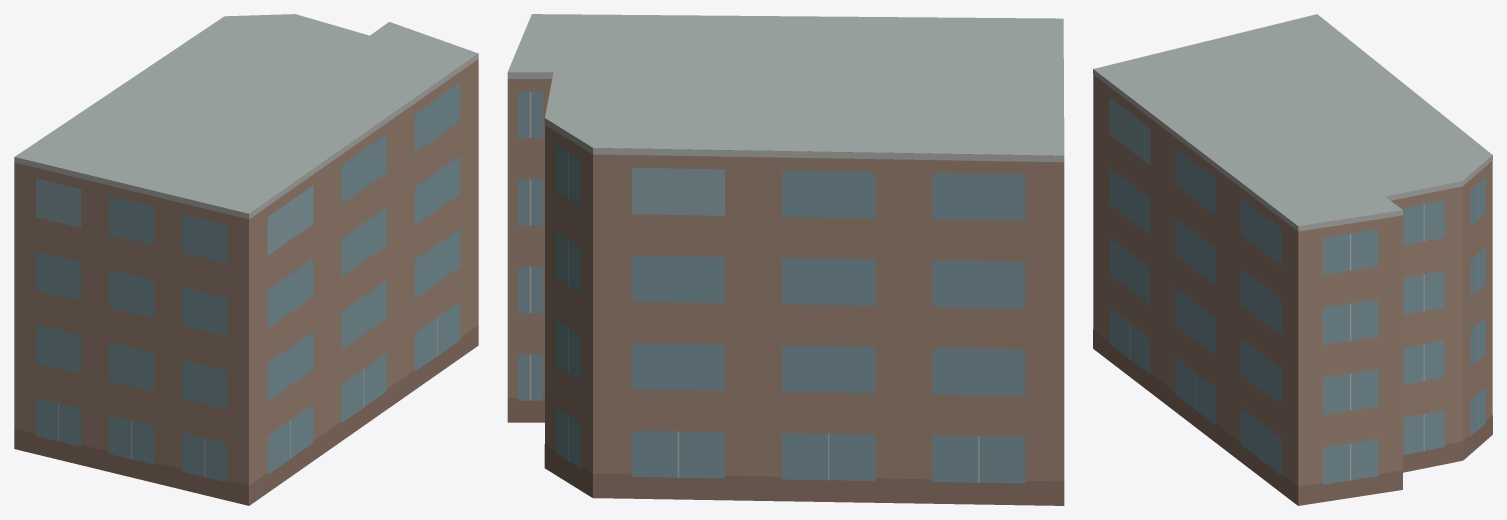
The model's file is survey-upis-32682021.glb.
3 renders of one model, left to right at view 1: azimuth 30°, elevation 25°; view 2: azimuth 150°, elevation 25°; view 3: azimuth 270°, elevation 25°, orthographic. The views are drawn at different scales.
Visible parts, largest first — view 1: survey-upis-32682021.tmp; view 2: survey-upis-32682021.tmp; view 3: survey-upis-32682021.tmp.
Boxes of the visible parts, x1,y1,x2,y2 form: survey-upis-32682021.tmp: (14,14,478,505); survey-upis-32682021.tmp: (507,14,1064,505); survey-upis-32682021.tmp: (1093,14,1492,505).
Size of the model in its own units: 20.83 by 12.8 by 16.58.
